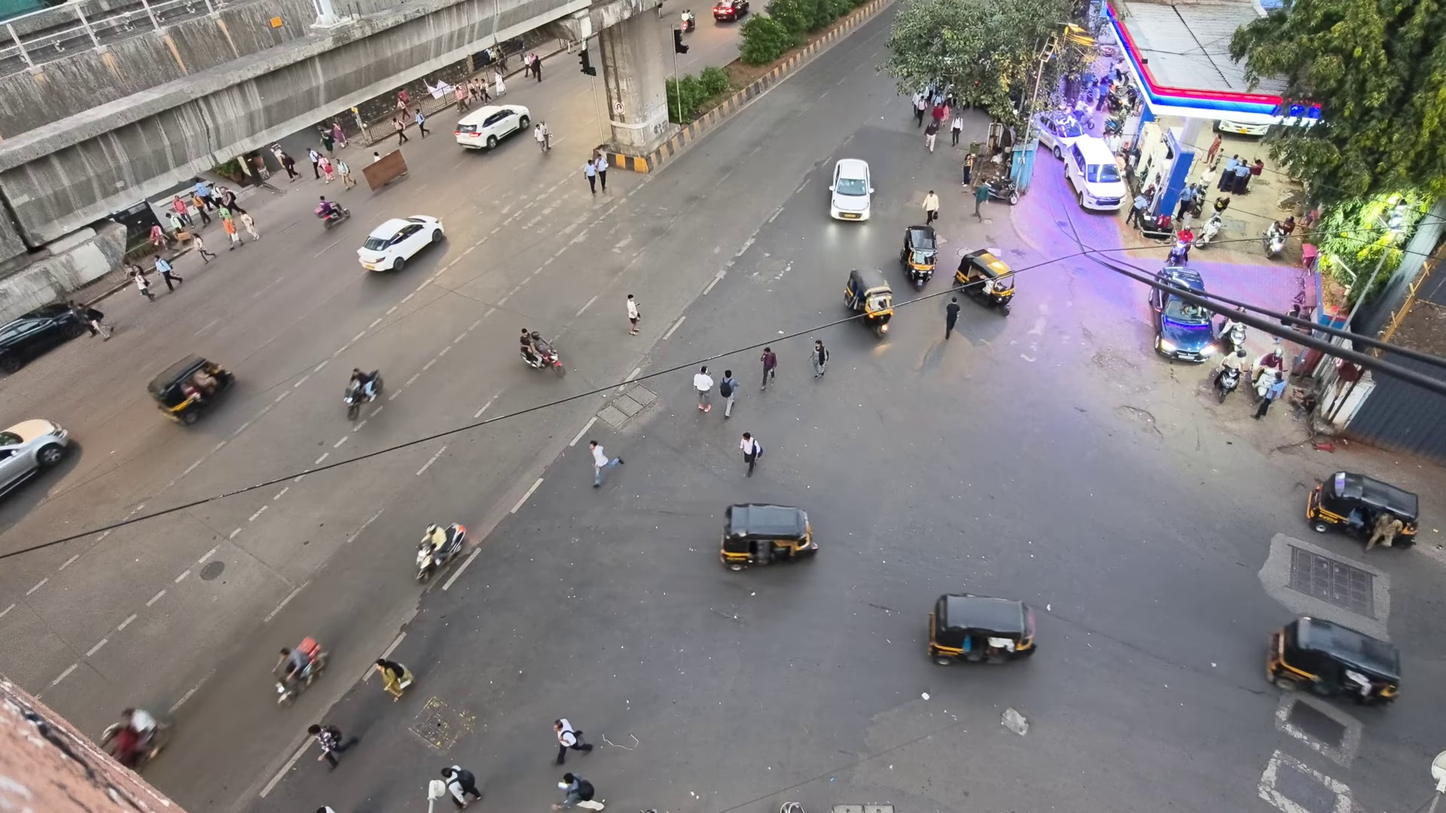walking: (307, 724, 358, 769), (551, 773, 603, 810), (554, 718, 592, 764), (67, 300, 110, 340), (441, 766, 481, 808), (375, 658, 413, 702), (589, 440, 623, 487), (1253, 371, 1286, 419), (1365, 511, 1403, 551), (718, 370, 738, 418), (155, 256, 182, 291), (740, 432, 761, 475), (694, 365, 713, 412), (1218, 154, 1240, 192), (132, 266, 154, 300), (221, 213, 241, 249), (760, 347, 777, 388), (192, 233, 216, 262), (218, 188, 245, 213), (810, 340, 828, 377), (974, 181, 990, 221), (278, 151, 299, 181), (191, 192, 210, 224), (171, 195, 191, 225), (336, 159, 356, 188), (946, 297, 959, 340), (923, 190, 939, 224), (626, 294, 639, 334), (593, 150, 606, 190), (1206, 132, 1222, 164), (392, 115, 409, 145), (413, 107, 429, 138), (962, 153, 976, 188), (534, 121, 549, 153), (924, 120, 939, 151), (914, 94, 928, 126), (319, 157, 335, 184), (950, 112, 963, 145), (331, 120, 346, 148), (319, 126, 334, 154), (584, 159, 596, 193), (454, 84, 468, 111), (308, 148, 320, 178), (493, 69, 504, 97), (532, 55, 541, 81)
